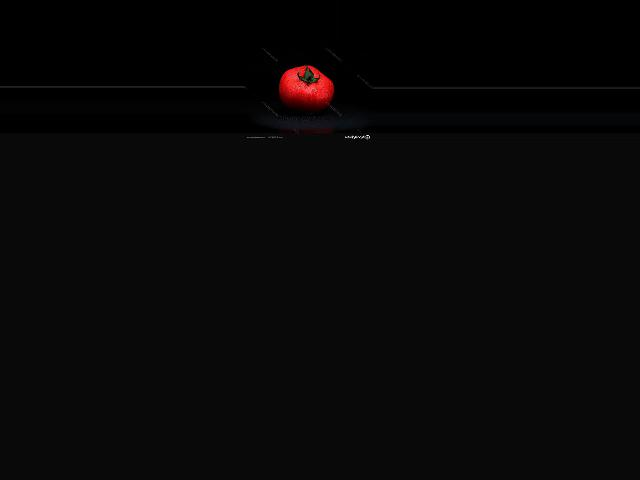tomato: (277, 64, 334, 113)
